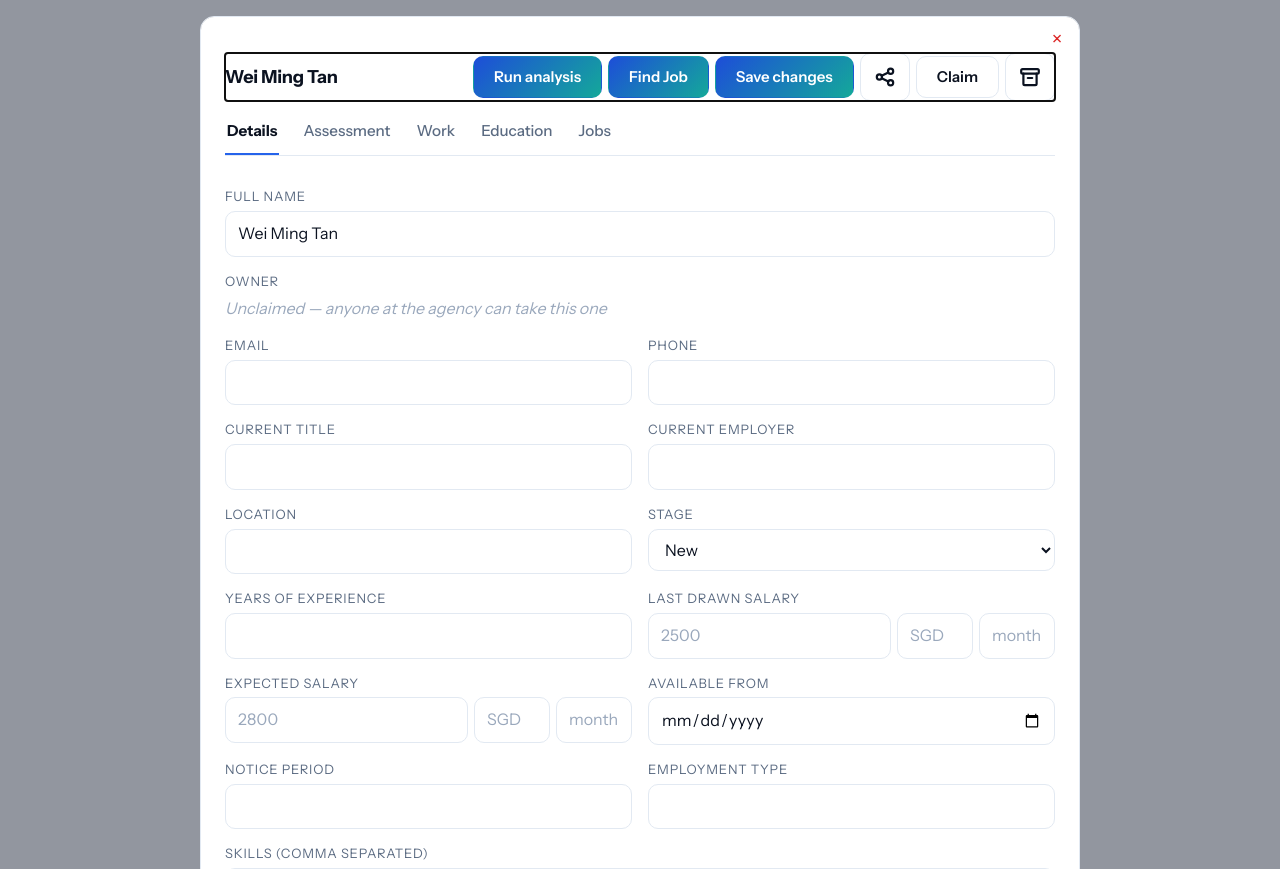
it: Find Job on the candidate panel › reopens to the last saved result without running again
Step 1. Click the tab "Jobs" → (595, 137), box [577, 119, 613, 155]
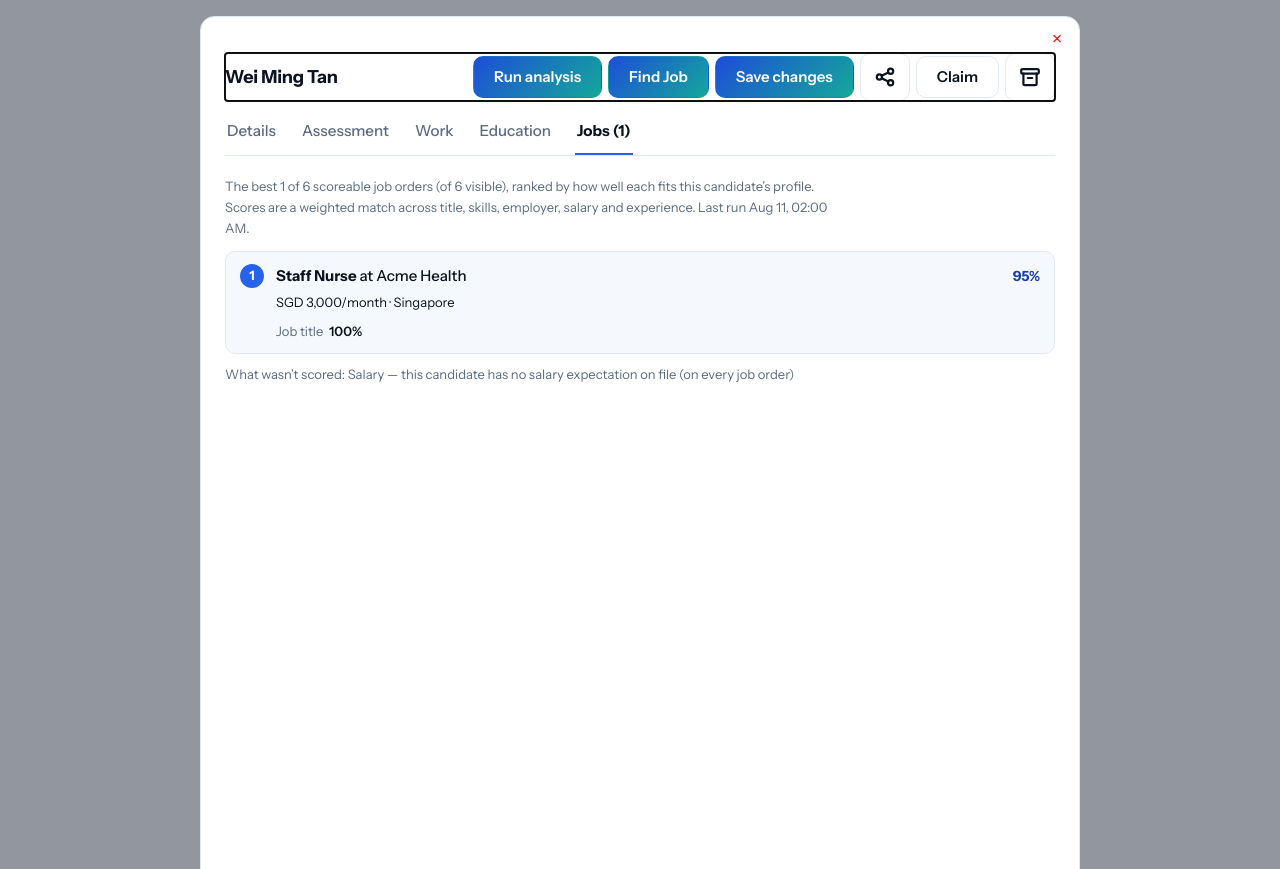
Check: the text "Staff Nurse" is shown, box [276, 266, 356, 285]
Check: the text "Last run" is shown, box [225, 178, 814, 215]
